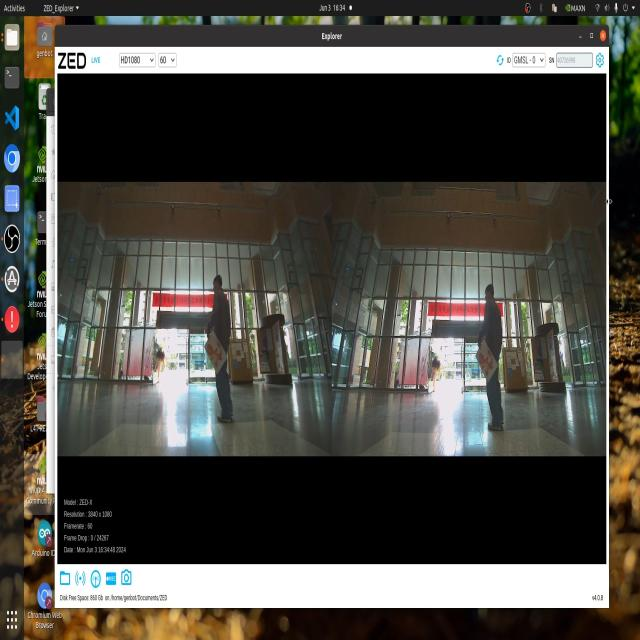red: (476, 339, 489, 376), (209, 336, 223, 368)
